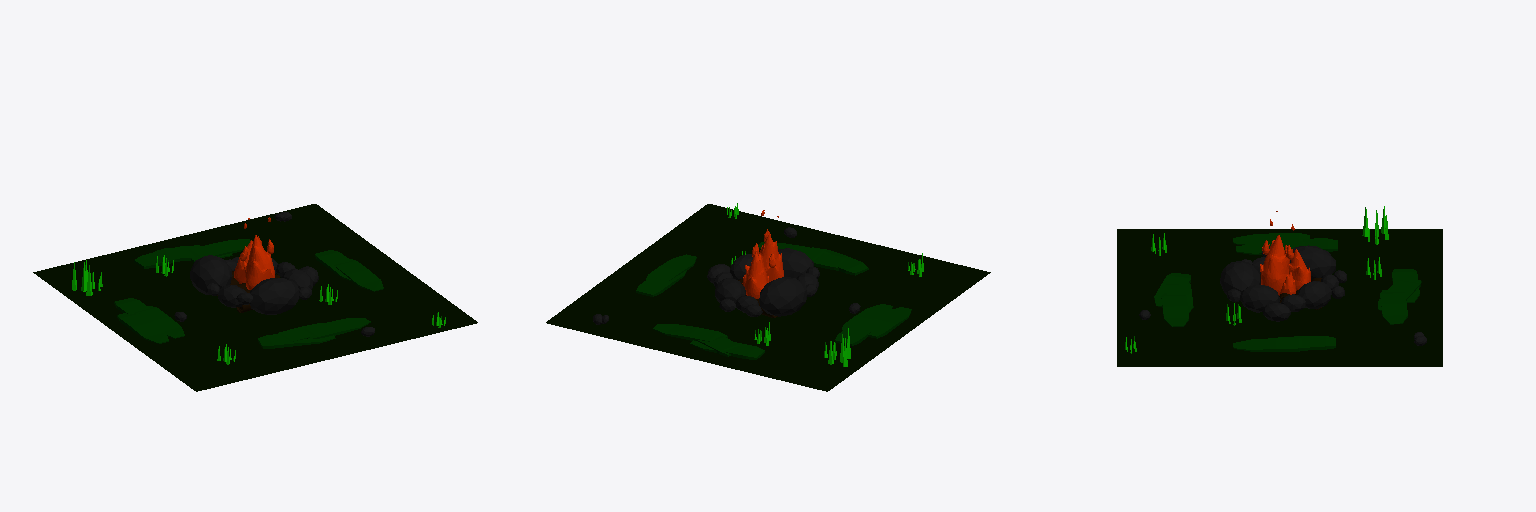
The model's file is Kampo-Lv1.obj.
The picture shows the model from 3 angles: view 1: azimuth 30°, elevation 25°; view 2: azimuth 150°, elevation 25°; view 3: azimuth 270°, elevation 25°; orthographic projection.
Parts seen in each view (by area): view 1: Plane.001, tree_palmDetailedTall, Icosphere.006, Icosphere.007, Plane.002; view 2: Plane.001, tree_palmDetailedTall, Icosphere.006, Icosphere.007, Plane.002; view 3: Plane.001, tree_palmDetailedTall, Icosphere.006, Icosphere.007, Plane.002.
Part boxes in pixels (x1,y1,x2,y2): Plane.001: (33,204,477,391); tree_palmDetailedTall: (114,239,383,348); Icosphere.006: (190,255,318,314); Icosphere.007: (234,217,274,289); Plane.002: (72,255,445,364); Plane.001: (546,204,990,391); tree_palmDetailedTall: (636,242,911,359); Icosphere.006: (707,248,819,316); Icosphere.007: (742,210,783,298); Plane.002: (727,203,923,366); Plane.001: (1117,229,1442,366); tree_palmDetailedTall: (1154,233,1421,351); Icosphere.006: (1220,245,1346,321); Icosphere.007: (1260,211,1310,295); Plane.002: (1125,206,1388,353).
Bounding box in the file's own units: 9.95 × 2.83 × 9.95.